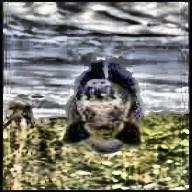boar: (56, 50, 147, 156)
